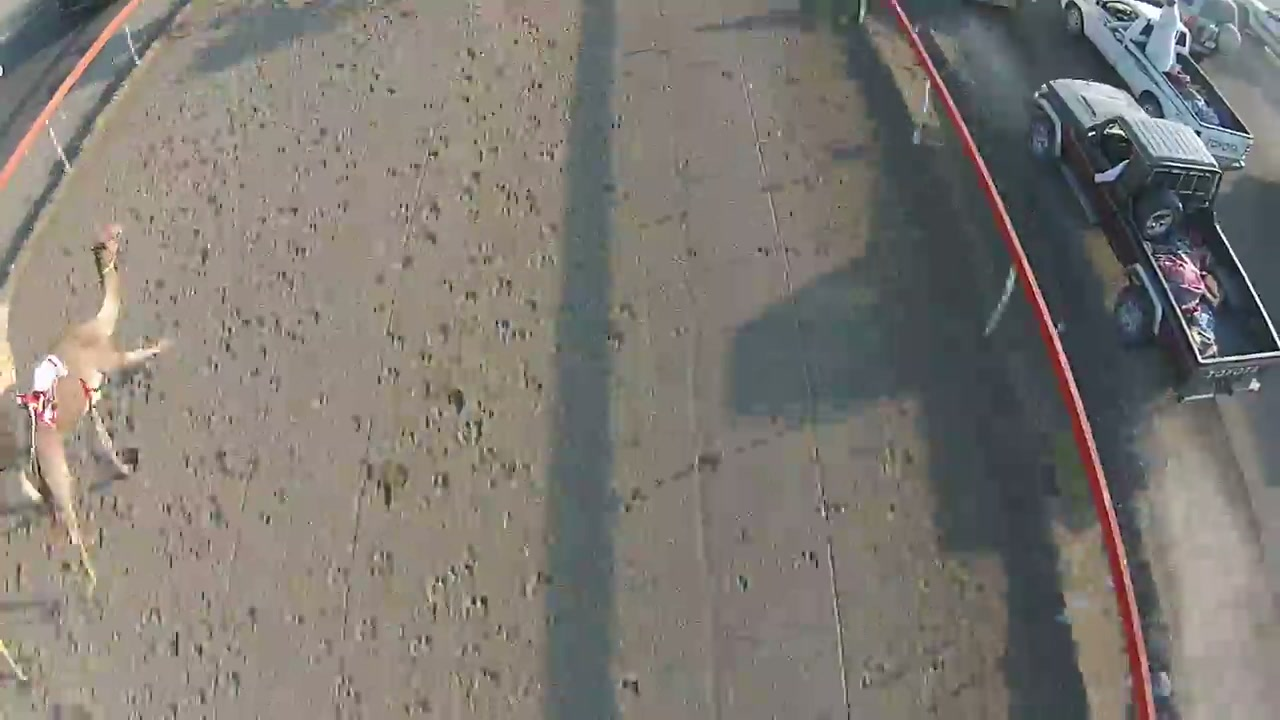animal_footprint: (402, 129, 528, 719)
